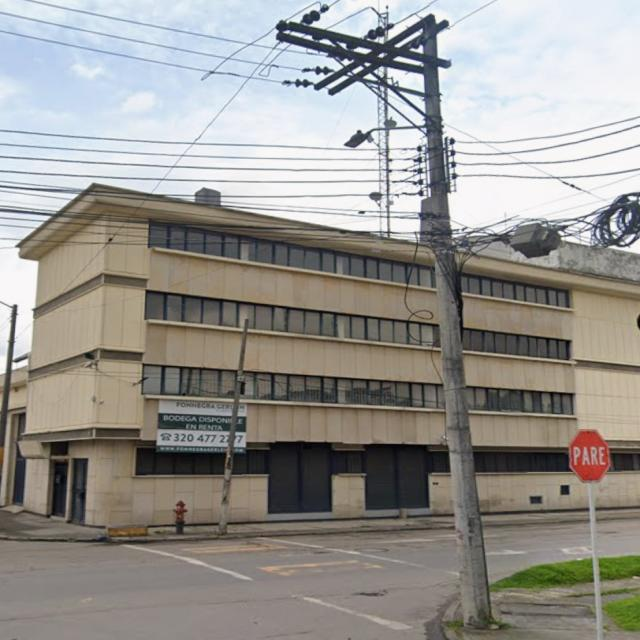fachada: (19, 185, 451, 525)
poste: (421, 63, 491, 628), (219, 319, 249, 535), (0, 305, 17, 476), (588, 482, 603, 639)
